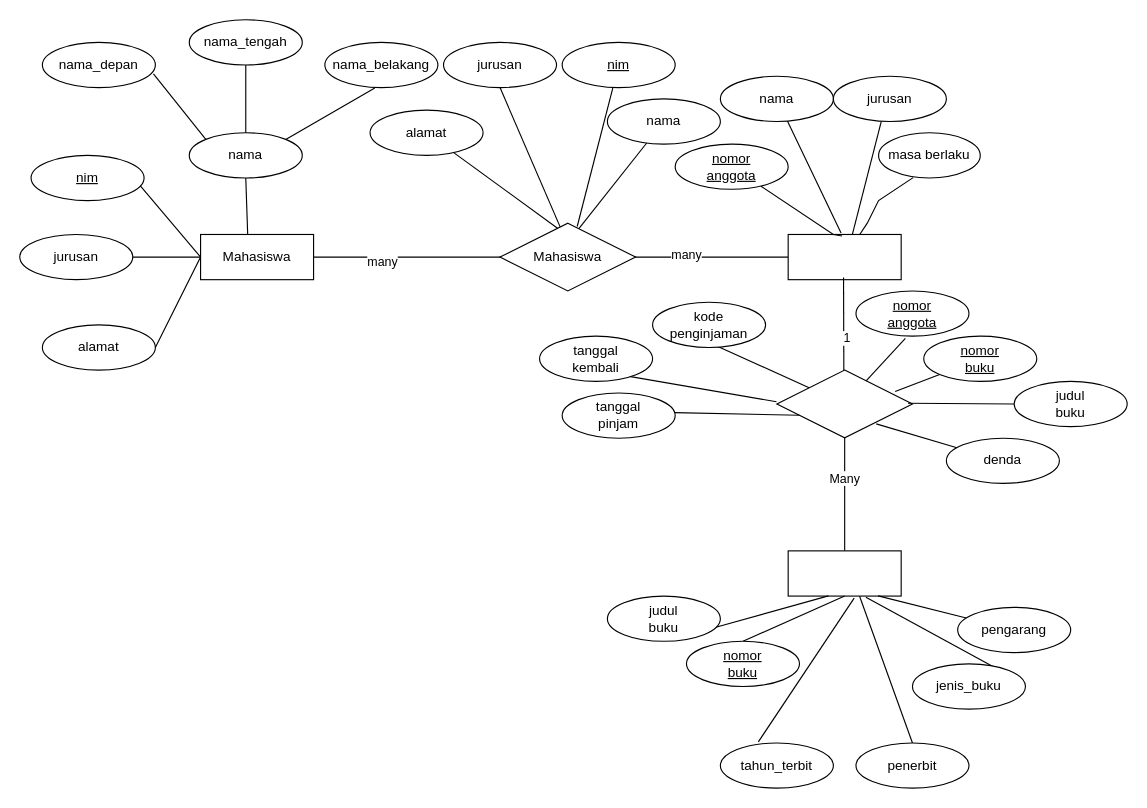
Some shapes in this 1147 by 808 pixel diagram are drawn without their labels. The centre of each missing label's shape, as x and y in pixels:
"anggota perpustakan" goes at pixel 844 256.
"buku" goes at pixel 844 573.
"meminjam" goes at pixel 844 403.
